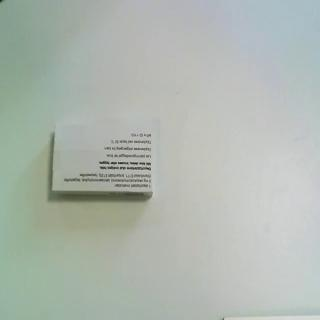oxycontin5mg: (50, 117, 156, 203)
